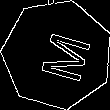M_W: (26, 25, 88, 84)
